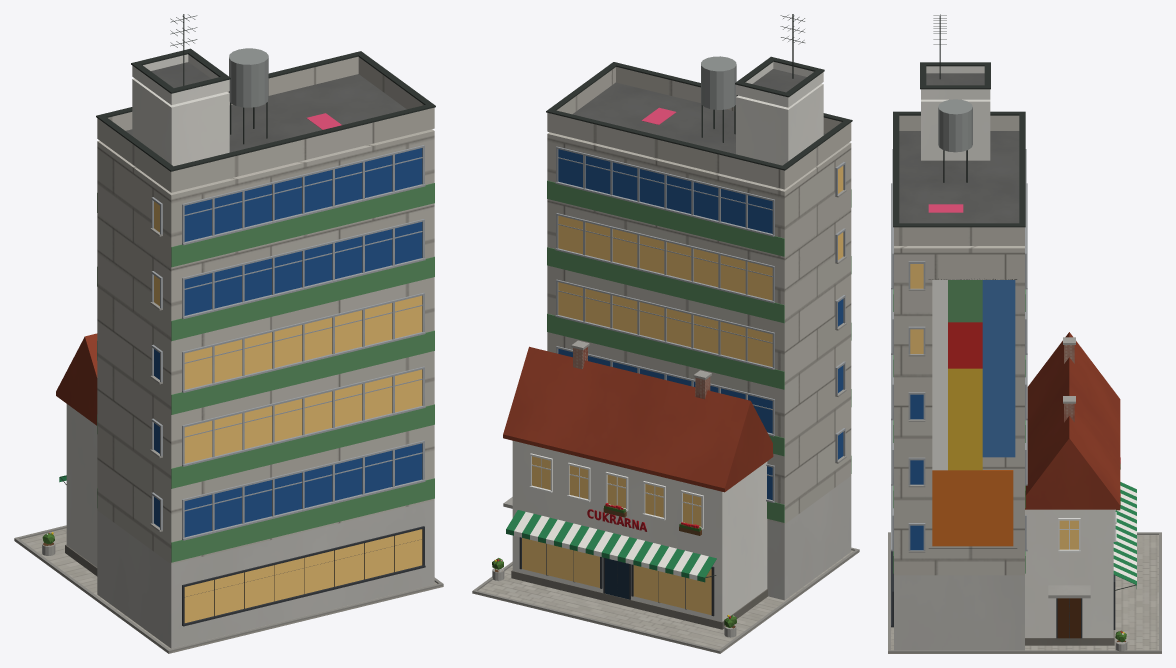
File: dum_01_kancelare.glb
3 renders of one model, left to right at view 1: azimuth 30°, elevation 25°; view 2: azimuth 150°, elevation 25°; view 3: azimuth 270°, elevation 25°, orthographic. The views are drawn at different scales.
Parts seen in each view (by area): view 1: dum, noc; view 2: dum, noc; view 3: dum, noc.
Boxes of the visible parts, x1,y1,x2,y2 form: dum: (14,14,443,653); noc: (154,201,422,622); dum: (472,14,859,653); noc: (522,166,843,615); dum: (888,14,1161,653); noc: (910,264,1078,549).
Size of the model in its own units: 12.31 by 25.44 by 11.73.
Materials: 1 (1 with a texture image).
